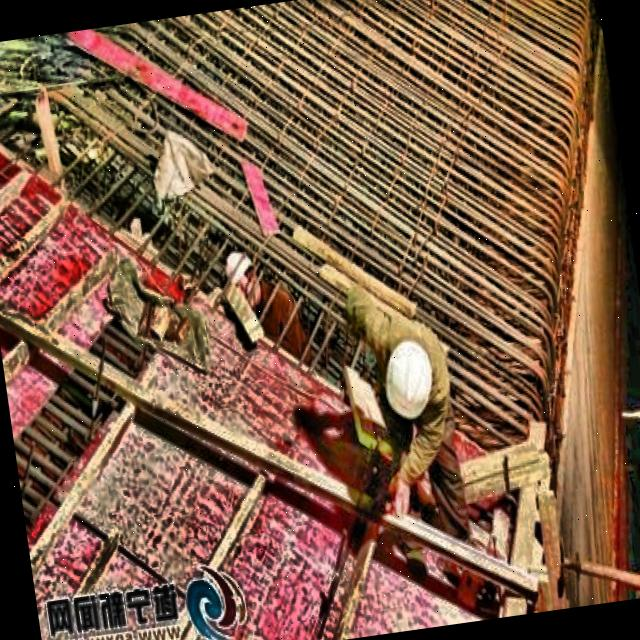helmet: (379, 336, 446, 426), (220, 246, 266, 308)
